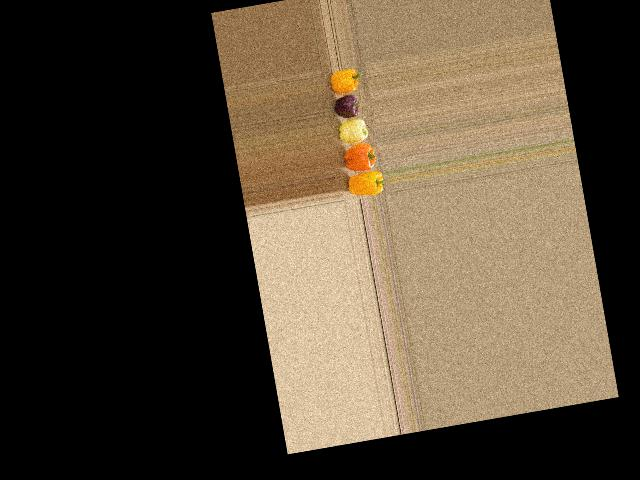bell_pepper: (322, 64, 364, 94)
